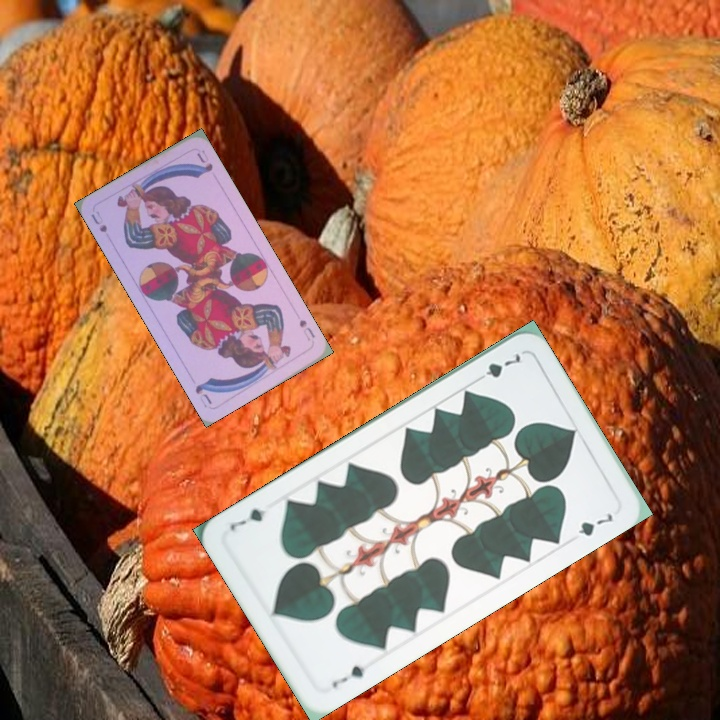G7: (470, 349, 524, 386), (328, 661, 368, 691)
SU: (87, 207, 110, 235), (295, 316, 317, 344)
